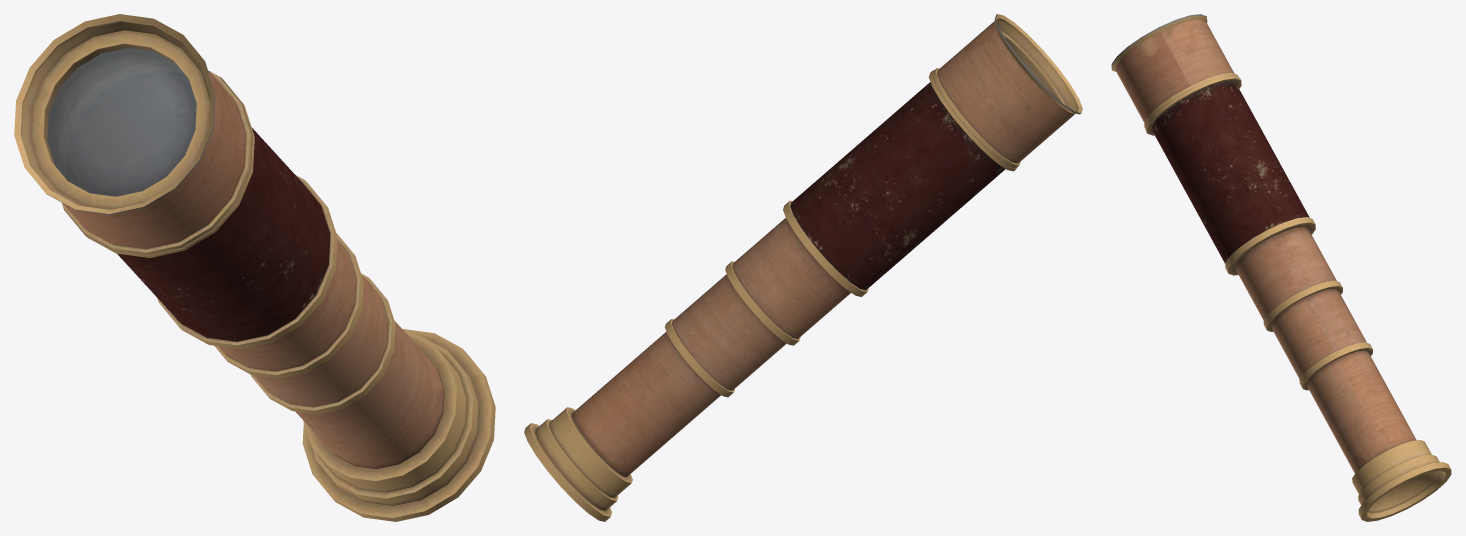
Rendered from telescope.glb.
3 views of the same model, side by side, from view 1: azimuth 30°, elevation 25°; view 2: azimuth 150°, elevation 25°; view 3: azimuth 270°, elevation 25° (orthographic). The views are drawn at different scales.
Parts seen in each view (by area): view 1: Cylinder002; view 2: Cylinder002; view 3: Cylinder002.
Part boxes in pixels (x1,y1,x2,y2): Cylinder002: [14, 14, 495, 521]; Cylinder002: [524, 14, 1082, 521]; Cylinder002: [1111, 14, 1451, 521].
Size of the model in its own units: 1.5 by 1.62 by 1.28.
Materials: 1 (1 with a texture image).
